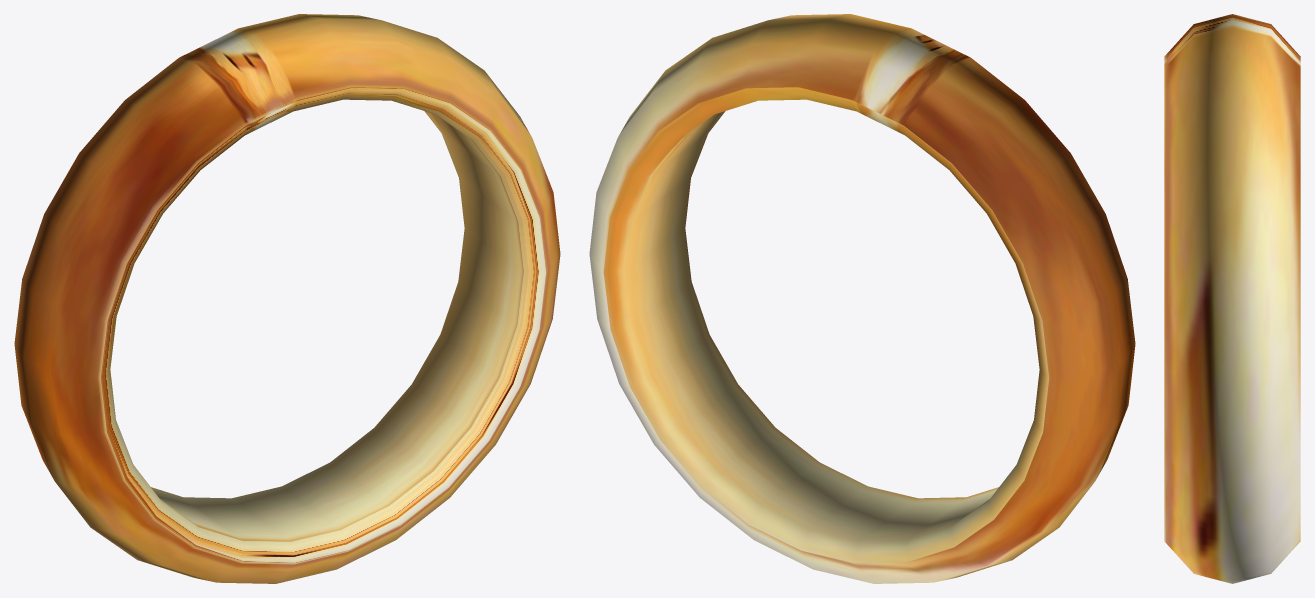
The model's file is FolderIcon.ico.obj.
The picture shows the model from 3 angles, left to right: view 1: azimuth 30°, elevation 25°; view 2: azimuth 150°, elevation 25°; view 3: azimuth 270°, elevation 25°; orthographic projection. The views are drawn at different scales.
Size of the model in its own units: 3.27 by 3.24 by 0.7778.
Materials: 1 (1 with a texture image).
